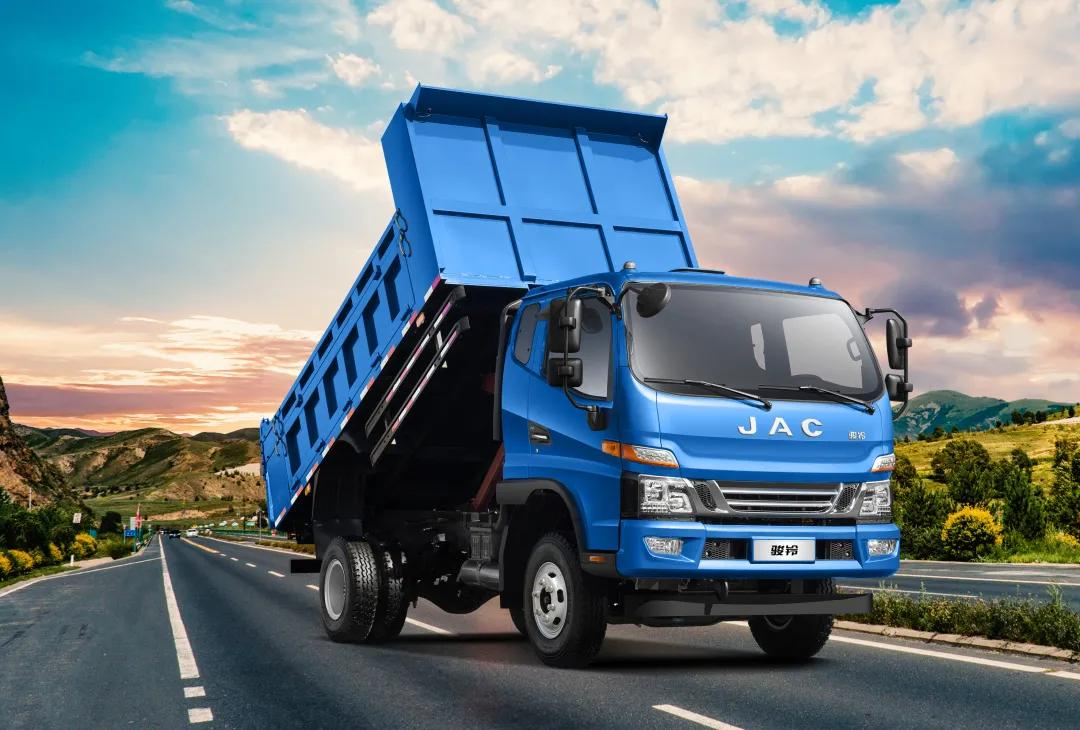truck: (226, 82, 913, 669)
